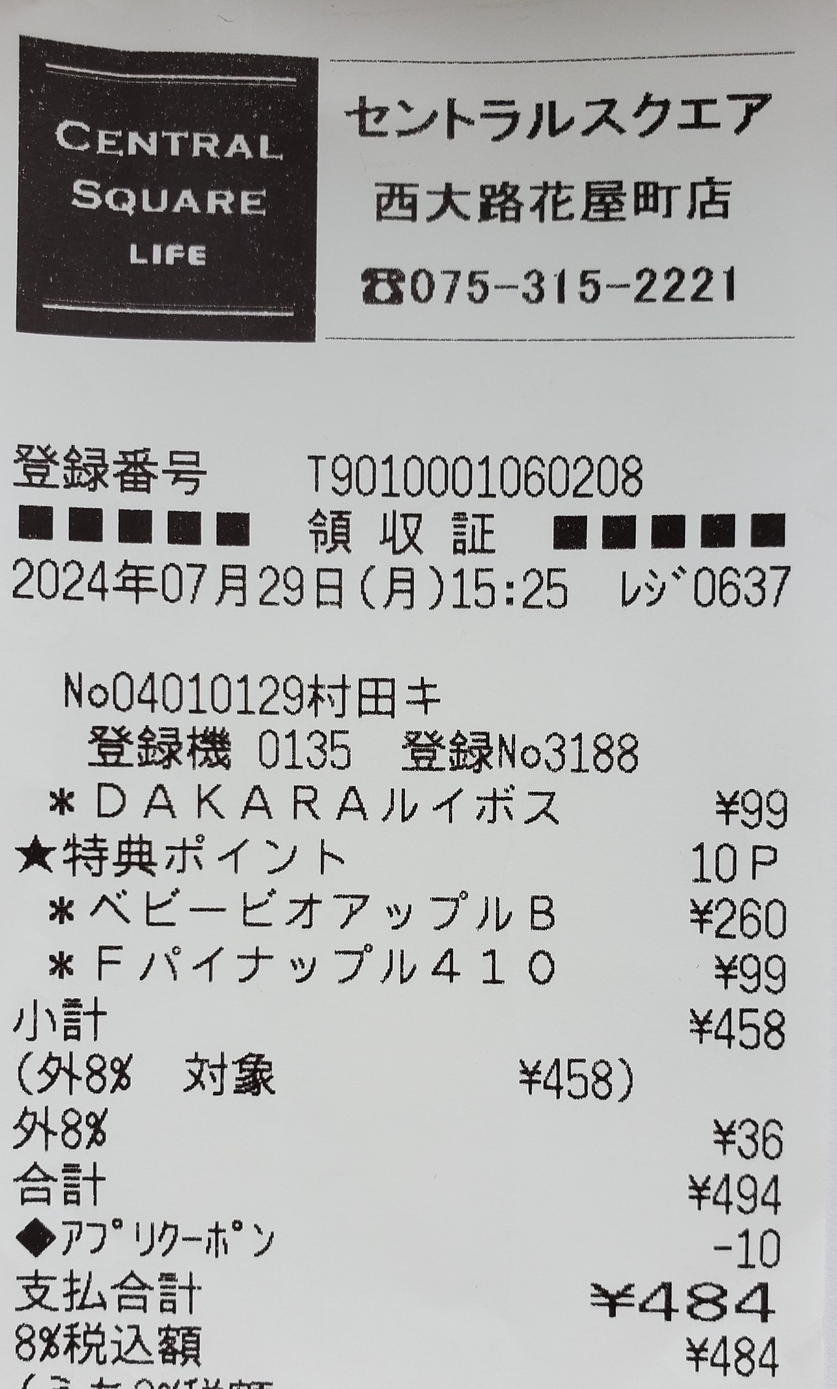Date: (9, 547, 363, 627)
Shopname: (337, 77, 810, 155)
Telnum: (407, 253, 750, 321)
Totalpay: (0, 1270, 800, 1324)
